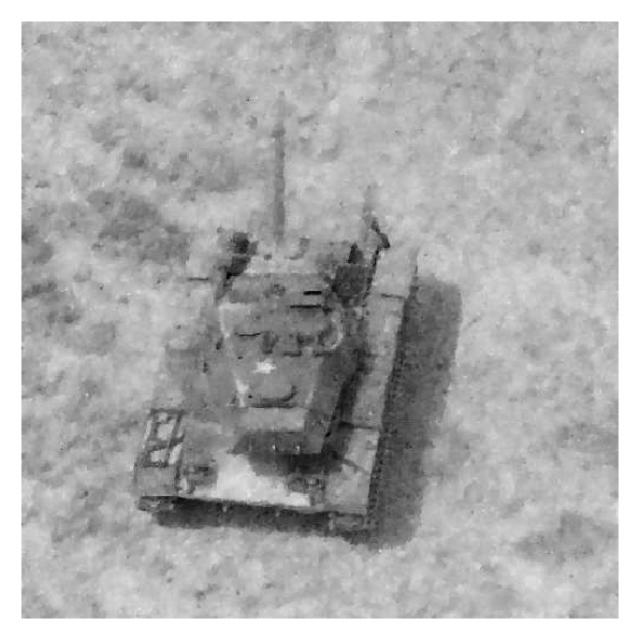tank: (125, 79, 416, 538)
